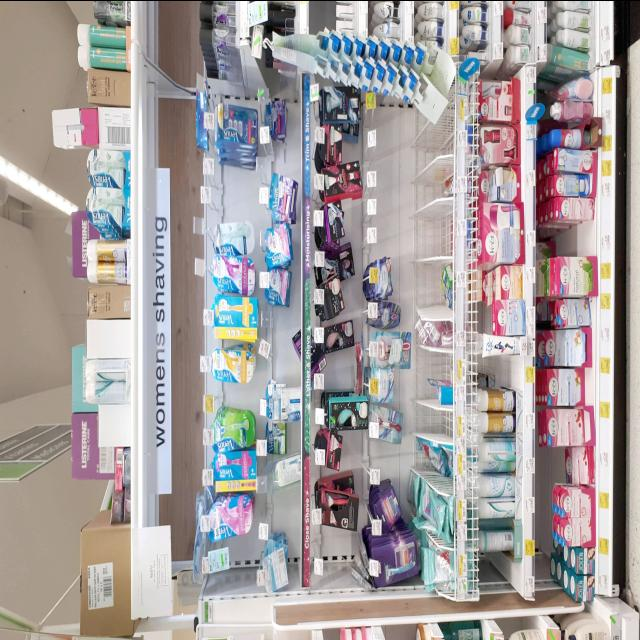empty_space: (379, 157, 450, 196), (379, 108, 450, 145), (390, 210, 445, 253), (400, 266, 443, 296), (221, 167, 251, 209), (540, 226, 586, 248)
